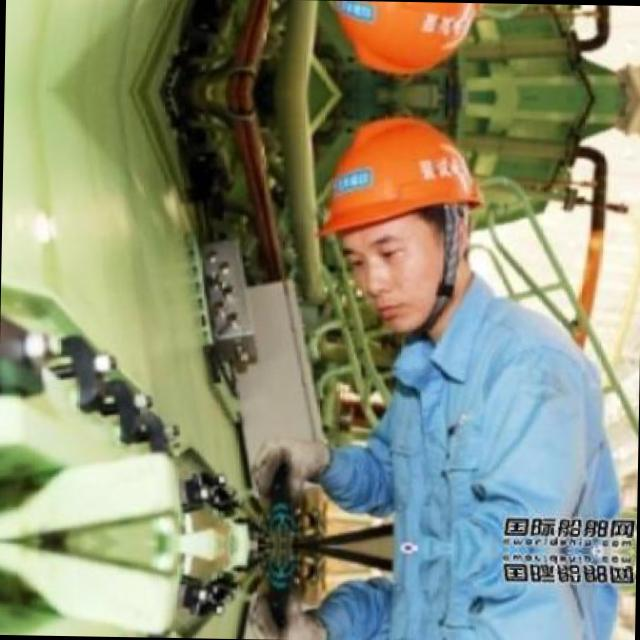helmet: (300, 105, 503, 341), (304, 0, 506, 86)
